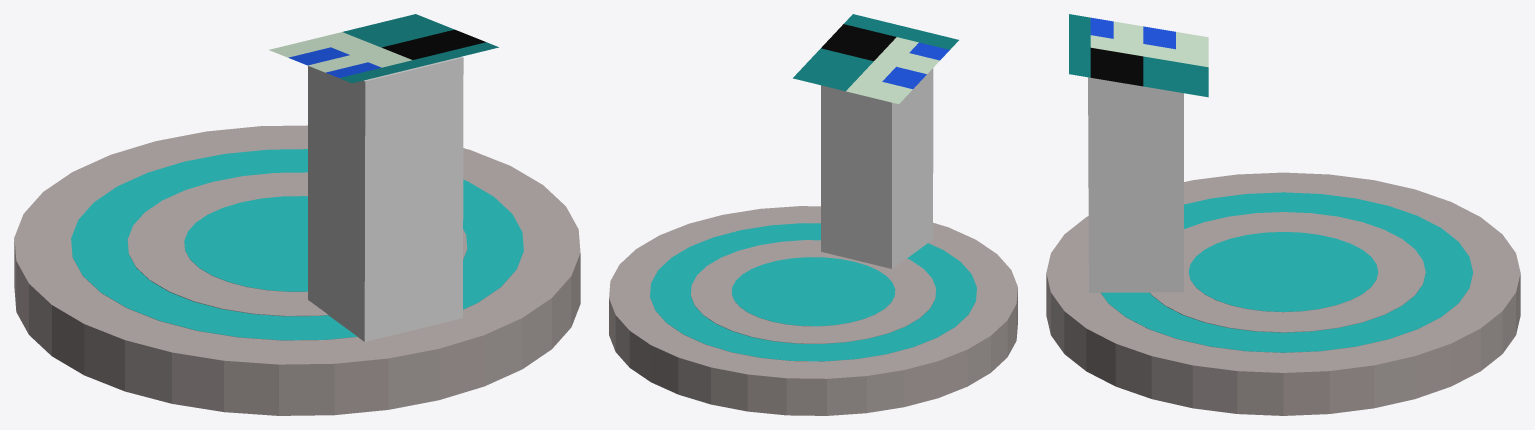
Rendered from TimeMachine.fbx.
3 views of the same model, side by side, from view 1: azimuth 30°, elevation 25°; view 2: azimuth 150°, elevation 25°; view 3: azimuth 270°, elevation 25° (orthographic). The views are drawn at different scales.
Visible parts, largest first — view 1: Cylinder, Cube.001, Plane; view 2: Cylinder, Cube.001, Plane; view 3: Cylinder, Cube.001, Plane.
Part boxes in pixels (<box>): Cylinder: <box>14,125,580,415</box>; Cube.001: <box>308,56,463,341</box>; Plane: <box>269,14,498,83</box>; Cylinder: <box>609,206,1017,415</box>; Cube.001: <box>821,68,933,268</box>; Plane: <box>793,14,958,104</box>; Cylinder: <box>1046,172,1520,415</box>; Cube.001: <box>1088,77,1183,292</box>; Plane: <box>1069,14,1208,97</box>.
Bounding box in the file's own units: 2 × 1.26 × 2.
